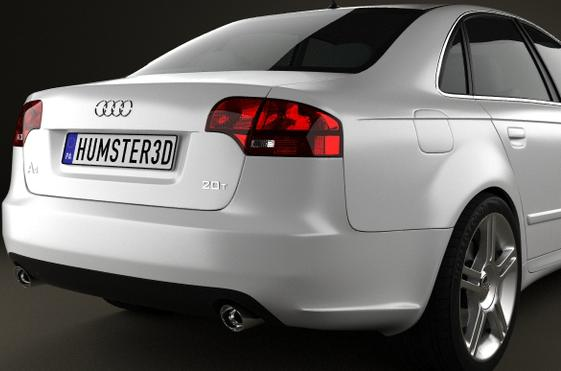back_view: (1, 87, 363, 299)
backlight: (194, 90, 351, 164)
side_glass: (439, 11, 561, 104)
